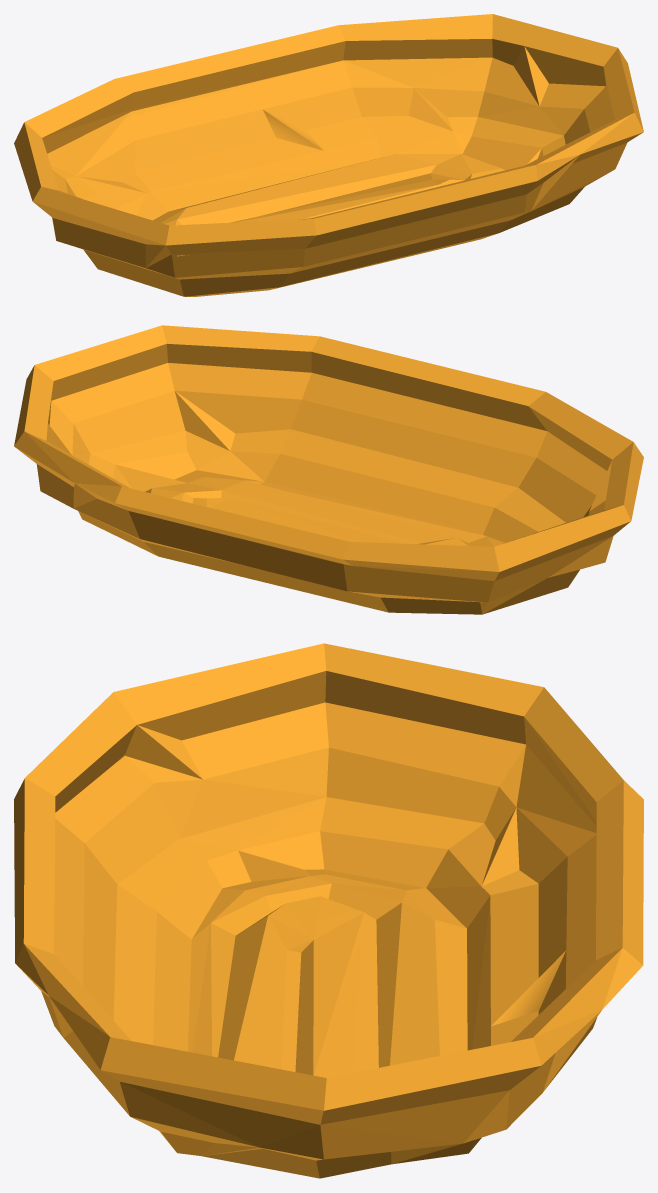
File: SM_Basket_E_Farm.fbx
3 renders of one model, top to bottom at view 1: azimuth 30°, elevation 25°; view 2: azimuth 150°, elevation 25°; view 3: azimuth 270°, elevation 25°, orthographic. The views are drawn at different scales.
Parts seen in each view (by area): view 1: basket-e-farm; view 2: basket-e-farm; view 3: basket-e-farm.
Boxes of the visible parts, <box> form: basket-e-farm: <box>14,14,643,296</box>; basket-e-farm: <box>14,325,643,614</box>; basket-e-farm: <box>14,643,643,1178</box>.
Size of the model in its own units: 0.5967 by 0.115 by 0.3584.
